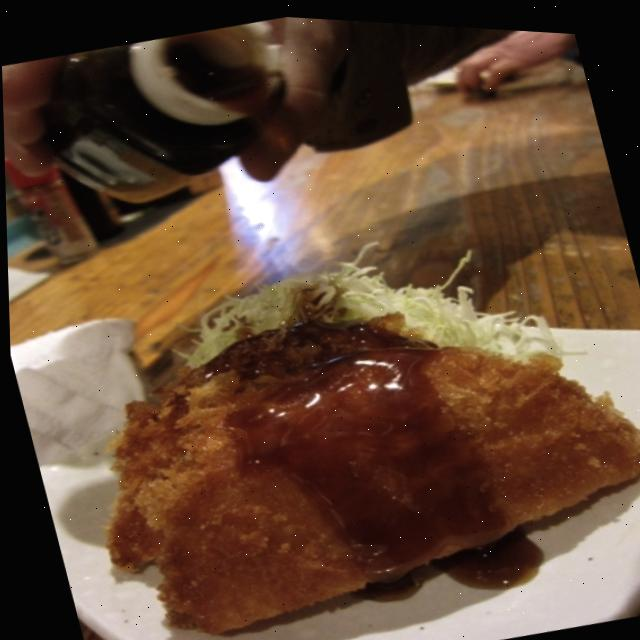炸货点心: (13, 161, 640, 640)
